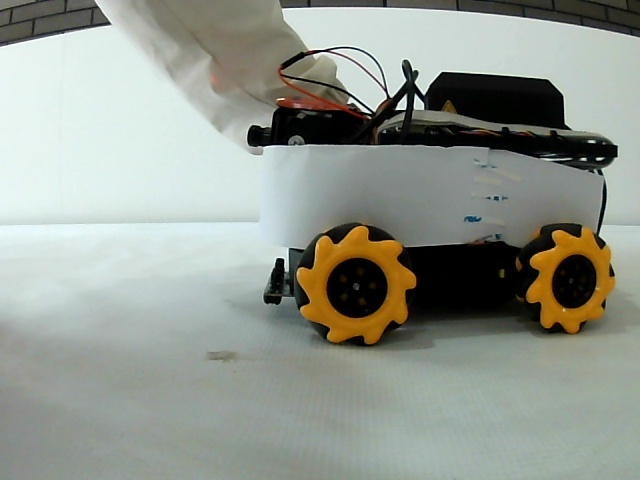car: (246, 61, 614, 345)
paper: (264, 148, 600, 227)
